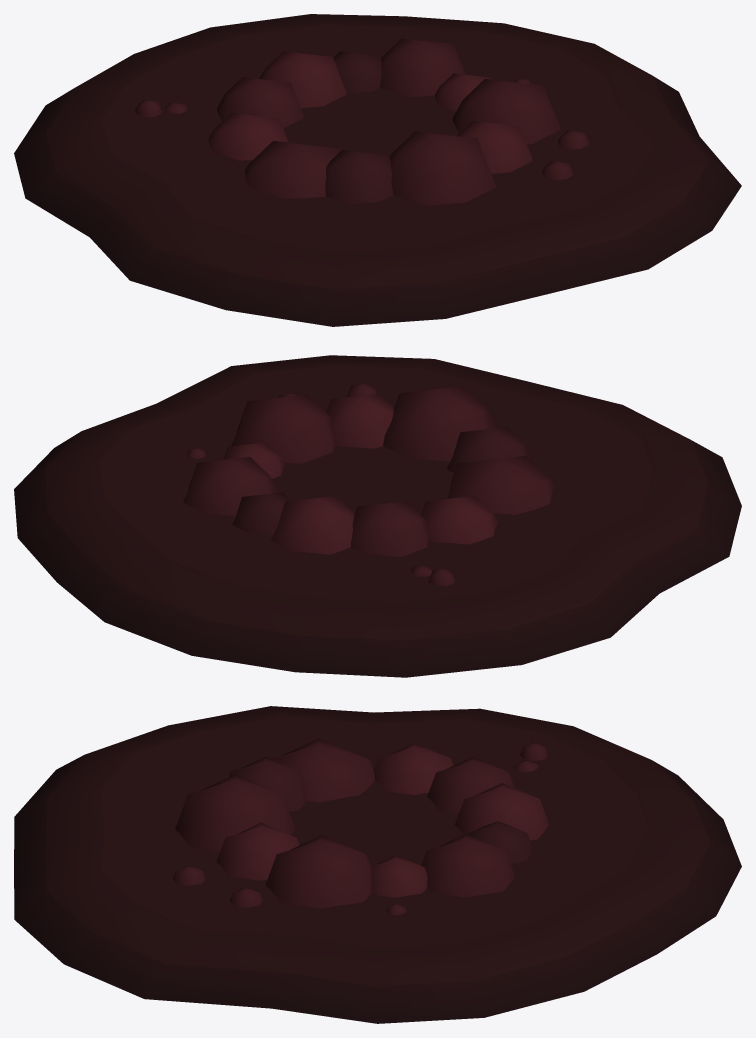
The model's file is Crop_PlantingSoil.fbx.
The picture shows the model from 3 angles, top to bottom: view 1: azimuth 30°, elevation 25°; view 2: azimuth 150°, elevation 25°; view 3: azimuth 270°, elevation 25°; orthographic projection. The views are drawn at different scales.
Parts seen in each view (by area): view 1: Crop_PlantingSoil; view 2: Crop_PlantingSoil; view 3: Crop_PlantingSoil.
Part boxes in pixels (<box>): Crop_PlantingSoil: <box>14,14,741,326</box>; Crop_PlantingSoil: <box>14,355,741,677</box>; Crop_PlantingSoil: <box>14,706,741,1023</box>.
Size of the model in its own units: 46.45 by 6.11 by 46.47.
